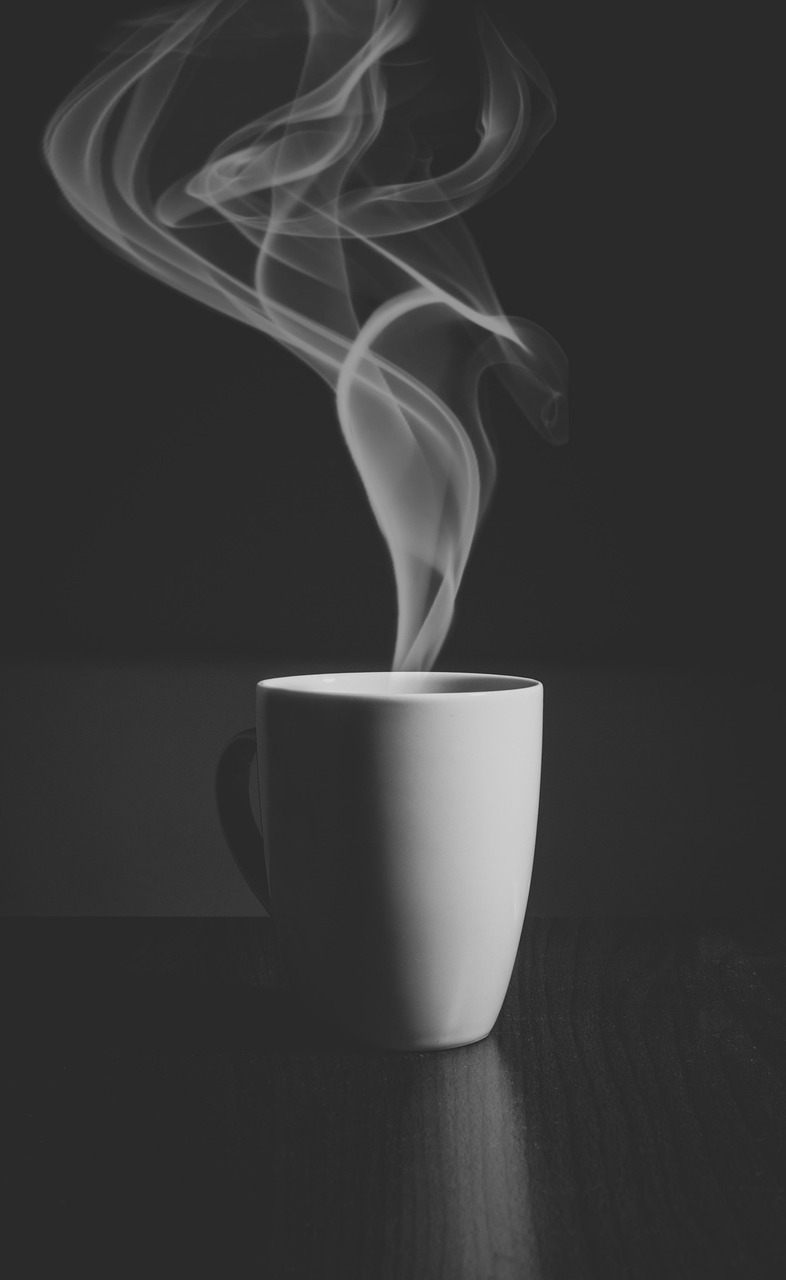mug: (196, 626, 603, 1088)
